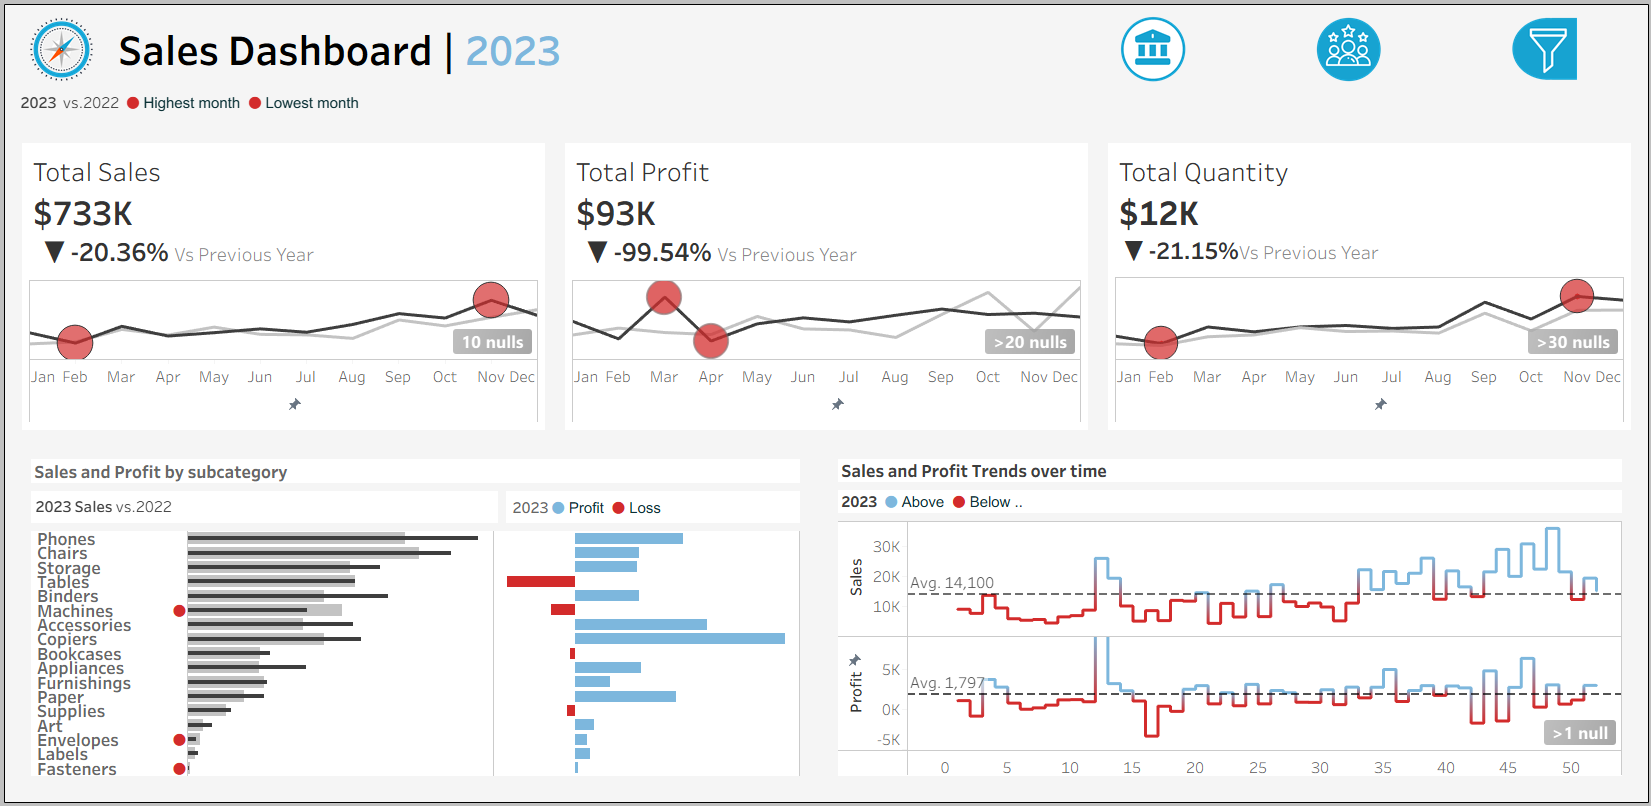

The page's visual inventory and layout, read from the dashboard file:
{"tool":"tableau","page":{"name":"Sales Dashboard","canvas":[1000,1000],"units":"permille","ordinal":1},"visuals":[{"type":"image","param":"Image/Icon - Logo.png","box":[8.5,17.3,60.4,91.2]},{"type":"text","box":[69,17.3,576.3,91.2]},{"type":"dashboard-object","box":[645.3,17.3,115.4,91.2]},{"type":"dashboard-object","box":[760.7,17.3,115.4,91.2]},{"type":"dashboard-object","box":[876.1,17.3,115.4,91.2]},{"type":"worksheet","title":"Legend KPI","mark":"Automatic","box":[8.5,108.5,982.9,70.3]},{"type":"blank","box":[837.5,146.1,143.5,36.3]},{"type":"worksheet","title":"KPI Sales","mark":"Automatic","cols":["Order Date"],"box":[8.5,178.8,327.6,366.2]},{"type":"worksheet","title":"KPI Profit","mark":"Line","rows":["Calculation_744501332859613186"],"cols":["Order Date"],"box":[336.2,178.8,327.6,366.2]},{"type":"worksheet","title":"KPI Quantity","mark":"Line","rows":["Calculation_1055812657446469636"],"cols":["Order Date"],"box":[663.8,178.8,327.6,366.2]},{"type":"text","box":[837.5,182.4,143.5,35.2]},{"type":"parameter","param":"[Parameters].[Parameter 1]","box":[837.5,217.6,143.5,100.7]},{"type":"blank","box":[837.5,318.4,143.5,32.2]},{"type":"text","box":[837.5,350.6,143.5,32.2]},{"type":"filter","title":"KPI Sales","param":"[federated.0frvgzx0eys0rh1dhm0pi0f6z8i7].[none:Category:nk]","box":[837.5,382.8,143.5,61.4]},{"type":"filter","title":"KPI Sales","param":"[federated.0frvgzx0eys0rh1dhm0pi0f6z8i7].[none:Sub-Category:nk]","box":[837.5,444.2,143.5,61.4]},{"type":"text","box":[837.5,505.7,143.5,33.2]},{"type":"filter","title":"KPI Sales","param":"[federated.0frvgzx0eys0rh1dhm0pi0f6z8i7].[none:Region:nk]","box":[837.5,538.9,143.5,61.4]},{"type":"text","box":[17.7,563.5,474.4,39.5]},{"type":"text","box":[510.4,563.5,471.9,38.2]},{"type":"filter","title":"KPI Sales","param":"[federated.0frvgzx0eys0rh1dhm0pi0f6z8i7].[none:City:nk]","box":[837.5,600.3,143.5,61.4]},{"type":"text","box":[510.4,601.7,471.9,38.4]},{"type":"worksheet","title":"Legend subcategory","mark":"Automatic","box":[17.7,602.9,290,49.3]},{"type":"text","box":[307.7,602.9,184.4,49.3]},{"type":"worksheet","title":"Weekly Trends","mark":"Automatic","rows":["Calculation_1078049179717033986","Calculation_744501332850692096"],"cols":["Order Date"],"box":[510.4,640.1,471.9,324.1]},{"type":"worksheet","title":"Subcategory Comparsion","mark":"Bar","rows":["Sub-Category","Calculation_271623372632522752"],"cols":["Calculation_1078049179717885955","Calculation_1078049179717033986","Calculation_744501332850692096"],"box":[17.7,652.3,474.4,311.9]},{"type":"filter","title":"KPI Sales","param":"[federated.0frvgzx0eys0rh1dhm0pi0f6z8i7].[none:State:nk]","box":[837.5,661.8,143.5,61.4]}]}

Visuals, with their boxes on the dashboard's canvas, which has no fixed pixel size, in thousandths of its width and height (x1, y1, x2, y2). These are canvas units, not pixel positions in the 1651x806 screenshot, which may show the page scaled, cropped or inside an application window:
image: {"left": 8, "top": 17, "right": 69, "bottom": 108}
text: {"left": 69, "top": 17, "right": 645, "bottom": 108}
dashboard-object: {"left": 645, "top": 17, "right": 761, "bottom": 108}
dashboard-object: {"left": 761, "top": 17, "right": 876, "bottom": 108}
dashboard-object: {"left": 876, "top": 17, "right": 992, "bottom": 108}
"Legend KPI" worksheet: {"left": 8, "top": 108, "right": 991, "bottom": 179}
blank: {"left": 838, "top": 146, "right": 981, "bottom": 182}
"KPI Sales" worksheet: {"left": 8, "top": 179, "right": 336, "bottom": 545}
"KPI Profit" worksheet (Line marks): {"left": 336, "top": 179, "right": 664, "bottom": 545}
"KPI Quantity" worksheet (Line marks): {"left": 664, "top": 179, "right": 991, "bottom": 545}
text: {"left": 838, "top": 182, "right": 981, "bottom": 218}
parameter: {"left": 838, "top": 218, "right": 981, "bottom": 318}
blank: {"left": 838, "top": 318, "right": 981, "bottom": 351}
text: {"left": 838, "top": 351, "right": 981, "bottom": 383}
"KPI Sales" filter: {"left": 838, "top": 383, "right": 981, "bottom": 444}
"KPI Sales" filter: {"left": 838, "top": 444, "right": 981, "bottom": 506}
text: {"left": 838, "top": 506, "right": 981, "bottom": 539}
"KPI Sales" filter: {"left": 838, "top": 539, "right": 981, "bottom": 600}
text: {"left": 18, "top": 564, "right": 492, "bottom": 603}
text: {"left": 510, "top": 564, "right": 982, "bottom": 602}
"KPI Sales" filter: {"left": 838, "top": 600, "right": 981, "bottom": 662}
text: {"left": 510, "top": 602, "right": 982, "bottom": 640}
"Legend subcategory" worksheet: {"left": 18, "top": 603, "right": 308, "bottom": 652}
text: {"left": 308, "top": 603, "right": 492, "bottom": 652}
"Weekly Trends" worksheet: {"left": 510, "top": 640, "right": 982, "bottom": 964}
"Subcategory Comparsion" worksheet (Bar marks): {"left": 18, "top": 652, "right": 492, "bottom": 964}
"KPI Sales" filter: {"left": 838, "top": 662, "right": 981, "bottom": 723}
